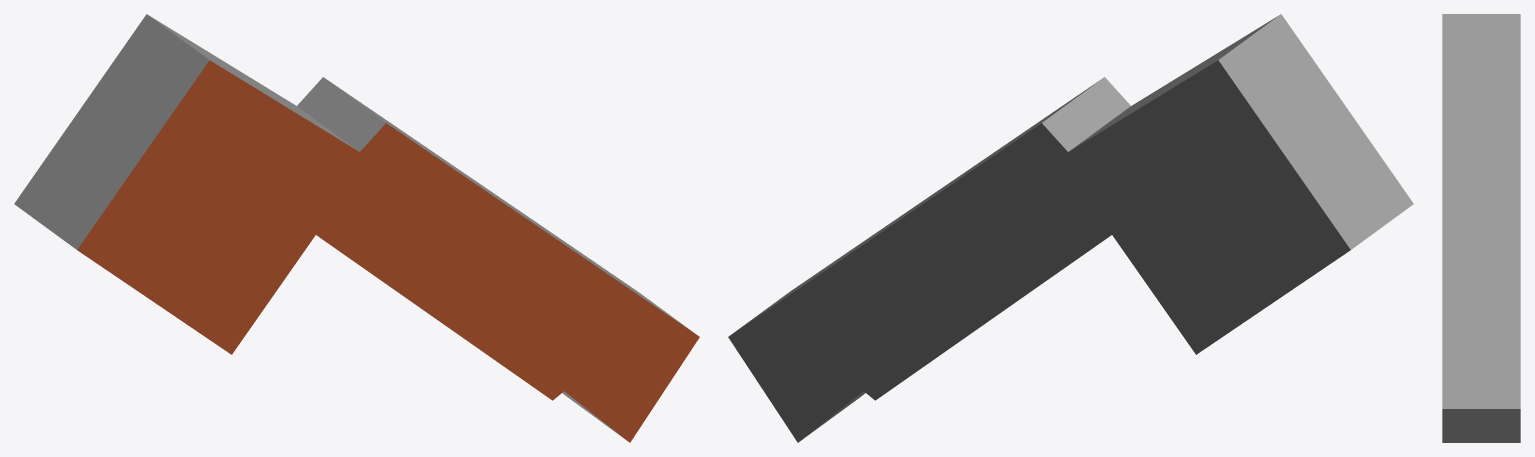
The model's file is construction_4388_assumed_A_Casa_h6m.obj.
3 renders of one model, left to right at view 1: azimuth 30°, elevation 25°; view 2: azimuth 150°, elevation 25°; view 3: azimuth 270°, elevation 25°, orthographic. The views are drawn at different scales.
Parts seen in each view (by area): view 1: construction_4388_assumed_A_Casa; view 2: construction_4388_assumed_A_Casa; view 3: construction_4388_assumed_A_Casa.
Boxes of the visible parts, x1,y1,x2,y2 form: construction_4388_assumed_A_Casa: (14,14,699,442); construction_4388_assumed_A_Casa: (728,14,1413,442); construction_4388_assumed_A_Casa: (1442,14,1520,442).
Size of the model in its own units: 34.25 by 25.51 by 6.
